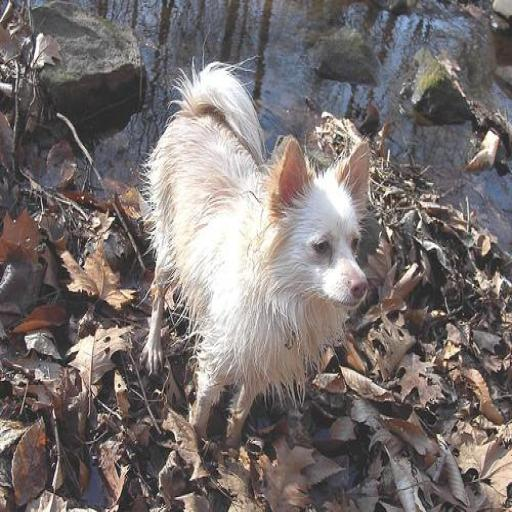dog_face: (265, 152, 374, 312)
